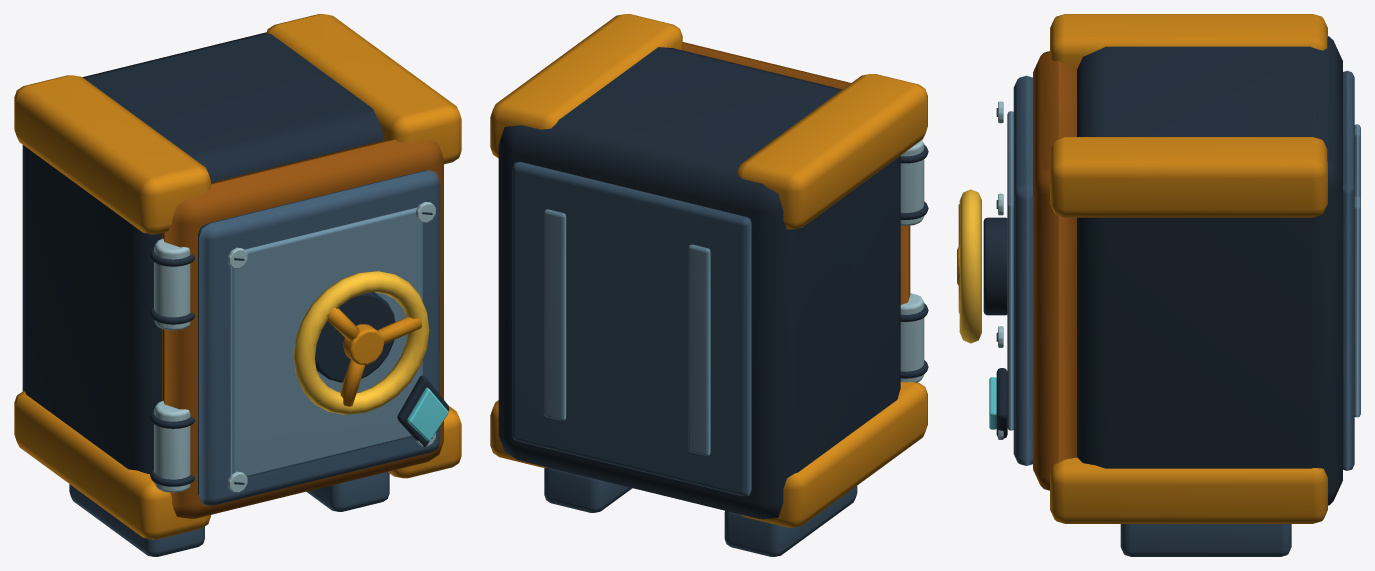
File: crystal_safe.glb
3 renders of one model, left to right at view 1: azimuth 30°, elevation 25°; view 2: azimuth 150°, elevation 25°; view 3: azimuth 270°, elevation 25°, orthographic. The views are drawn at different scales.
Parts seen in each view (by area): view 1: crystal_safe_runtime; view 2: crystal_safe_runtime; view 3: crystal_safe_runtime.
Boxes of the visible parts, box(x1,y1,x2,y2) form: crystal_safe_runtime: box(14, 14, 461, 556); crystal_safe_runtime: box(490, 14, 928, 556); crystal_safe_runtime: box(957, 14, 1360, 556).
Bounding box in the file's own units: 1.06 × 1.3 × 1.15.
Materials: 1 (1 with a texture image).
